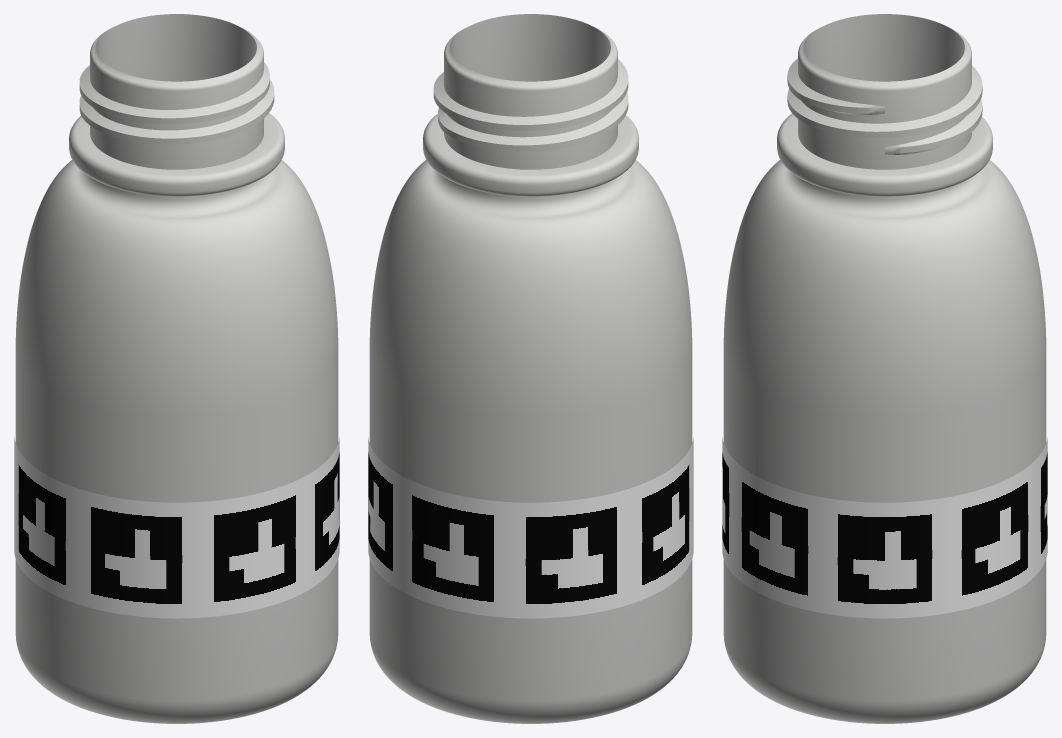
File: PWD-0051_2006835788449.glb
3 views of the same model, side by side, from view 1: azimuth 30°, elevation 25°; view 2: azimuth 150°, elevation 25°; view 3: azimuth 270°, elevation 25° (orthographic).
Visible parts, largest first — view 1: Bote_100mL, Label_PWD-0051; view 2: Bote_100mL, Label_PWD-0051; view 3: Bote_100mL, Label_PWD-0051.
Boxes of the visible parts, left/top/right/bottom form: Bote_100mL: left=15, top=14, right=338, bottom=723; Label_PWD-0051: left=14, top=437, right=339, bottom=618; Bote_100mL: left=369, top=14, right=692, bottom=723; Label_PWD-0051: left=368, top=437, right=693, bottom=618; Bote_100mL: left=723, top=14, right=1046, bottom=723; Label_PWD-0051: left=722, top=437, right=1047, bottom=618.
Size of the model in its own units: 0.0464 by 0.0977 by 0.0464.
Materials: 2 (1 with a texture image).
